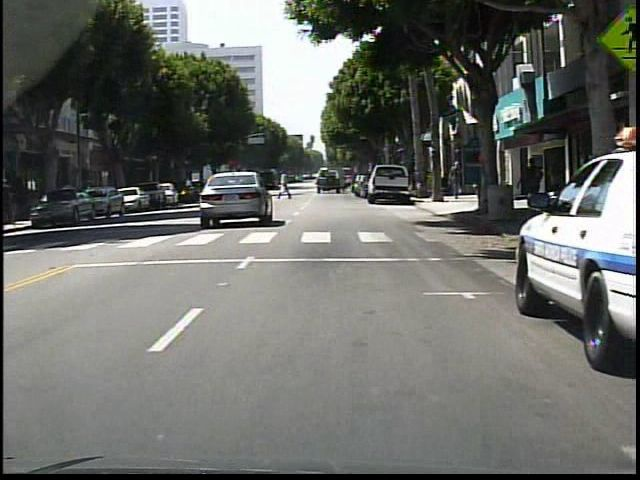person: (519, 156, 543, 218), (546, 152, 567, 219), (450, 158, 466, 200), (279, 172, 295, 200)
